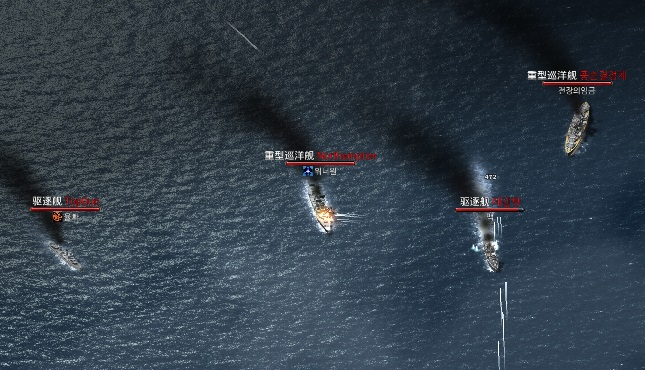ship: (303, 177, 339, 236), (563, 99, 593, 157), (475, 217, 504, 273), (44, 240, 85, 276)
